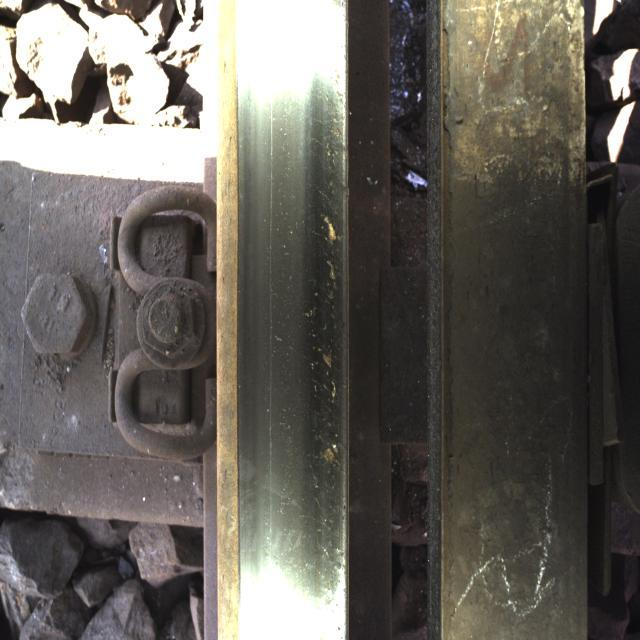crack: (292, 73, 340, 602)
